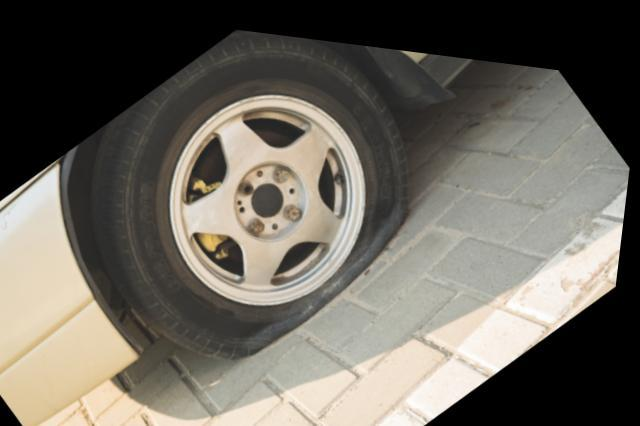tire flat: (95, 24, 416, 352)
